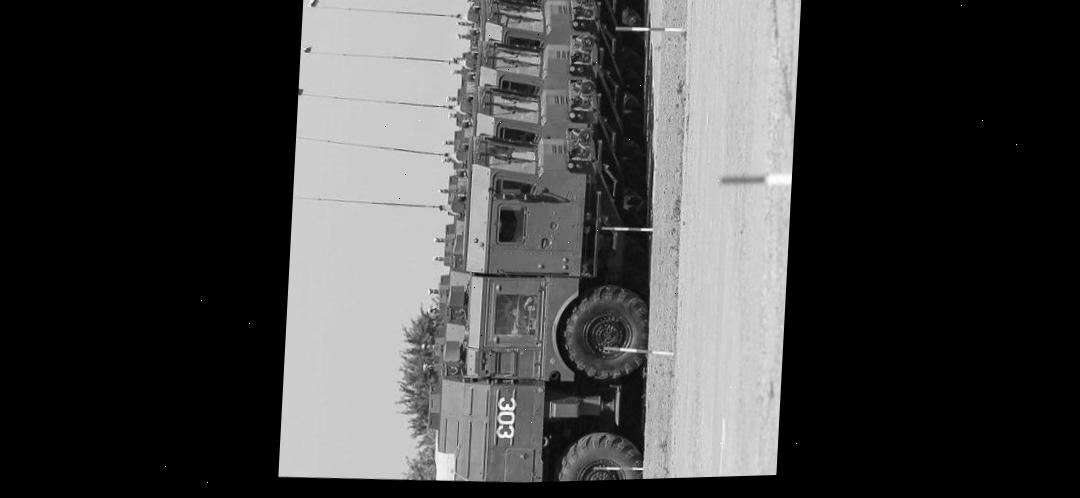rszo: (414, 141, 691, 486)
